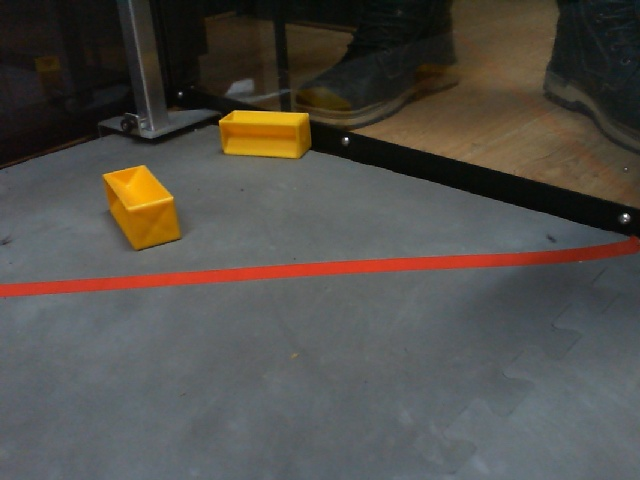YellowSample: (102, 161, 182, 254), (214, 103, 315, 160)
